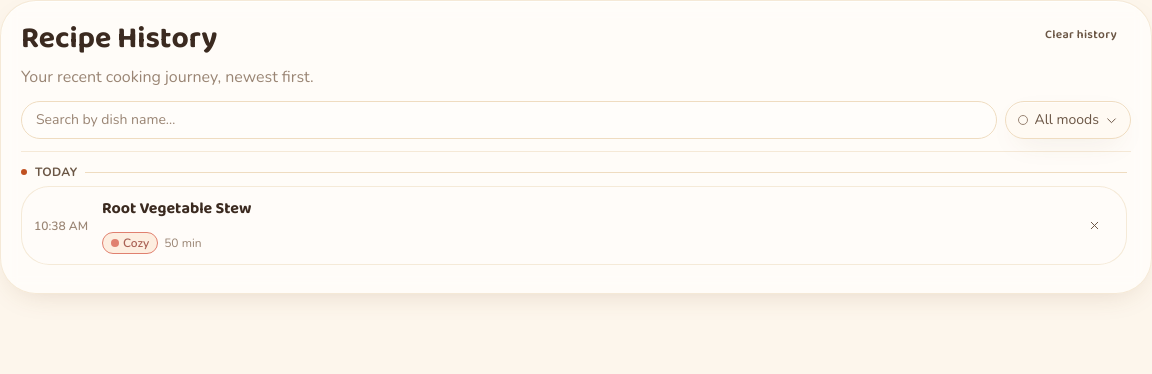
Test: RecipeHistoryScreen › shows a no-search-results state (not the empty state) when a search matches nothing
The image size is (1152, 374).
Type "pizza" into the search field named "search history" at (509, 120), box [21,101,997,139]
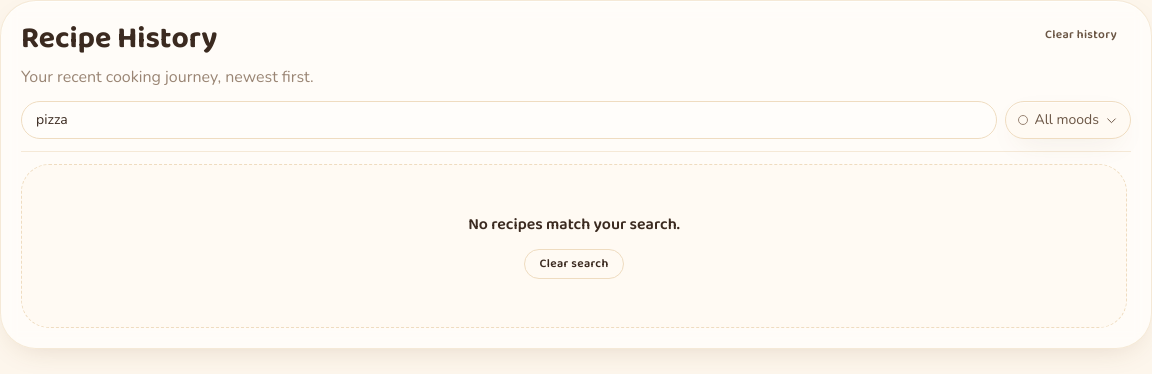
expect the text "No recipes match your search." is shown: met, box [468,213,680,237]
